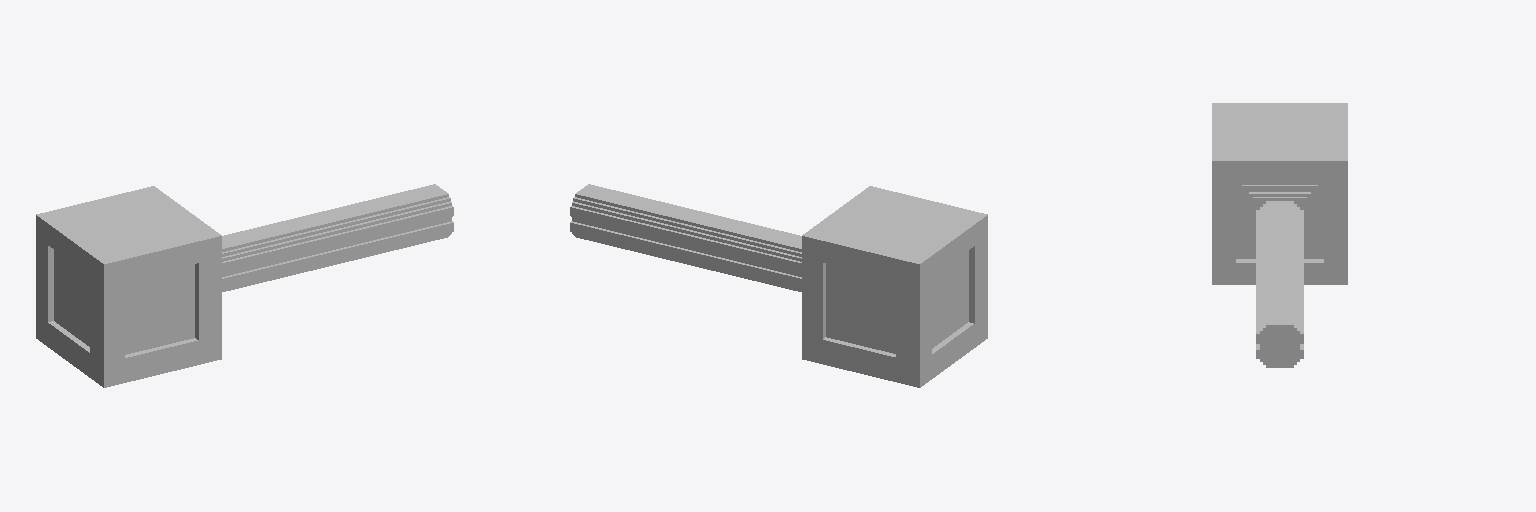
Rendered from hammer.obj.
3 renders of one model, left to right at view 1: azimuth 30°, elevation 25°; view 2: azimuth 150°, elevation 25°; view 3: azimuth 270°, elevation 25°, orthographic.
Parts seen in each view (by area): view 1: hammer; view 2: hammer; view 3: hammer.
Part boxes in pixels (left/top/right/bottom): hammer: left=36, top=184, right=453, bottom=387; hammer: left=570, top=184, right=987, bottom=387; hammer: left=1212, top=103, right=1347, bottom=367.
Size of the model in its own units: 126 by 40 by 40.